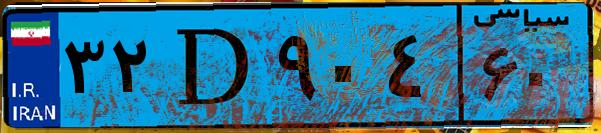0: (330, 28, 385, 110), (525, 38, 570, 115)
2: (110, 28, 158, 98)
3: (57, 26, 110, 100)
4: (385, 28, 445, 110)
6: (475, 38, 525, 113)
9: (270, 28, 330, 110)
D: (158, 12, 270, 120)
